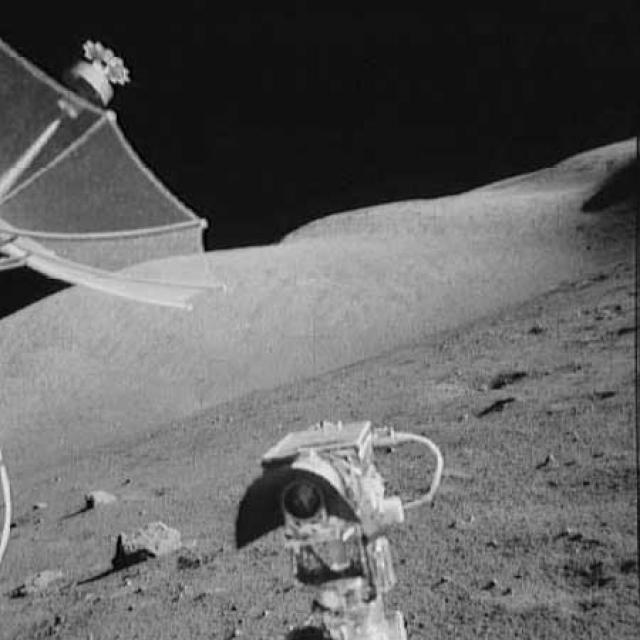artifact: (0, 33, 244, 314), (225, 416, 468, 638), (0, 459, 25, 569)
crater: (471, 371, 533, 388)
rock: (109, 519, 187, 567), (12, 566, 65, 598), (69, 480, 120, 513)
